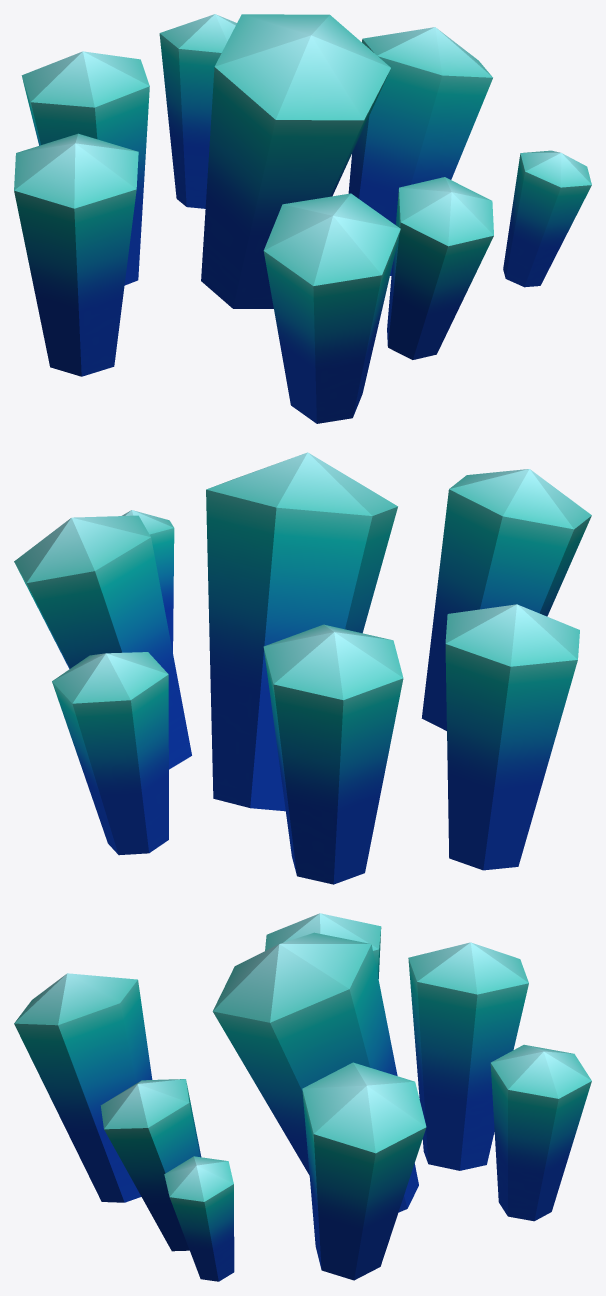
Rendered from Coral Type 4.fbx.
The picture shows the model from 3 angles, top to bottom: view 1: azimuth 30°, elevation 25°; view 2: azimuth 150°, elevation 25°; view 3: azimuth 270°, elevation 25°; orthographic projection. The views are drawn at different scales.
Visible parts, largest first — view 1: pCylinder9; view 2: pCylinder9; view 3: pCylinder9.
Part boxes in pixels (x1,y1,x2,y2): pCylinder9: (14,14,591,423); pCylinder9: (14,452,591,884); pCylinder9: (14,913,591,1281).
Size of the model in its own units: 66.75 by 37.92 by 69.95.
Materials: 1 (1 with a texture image).
